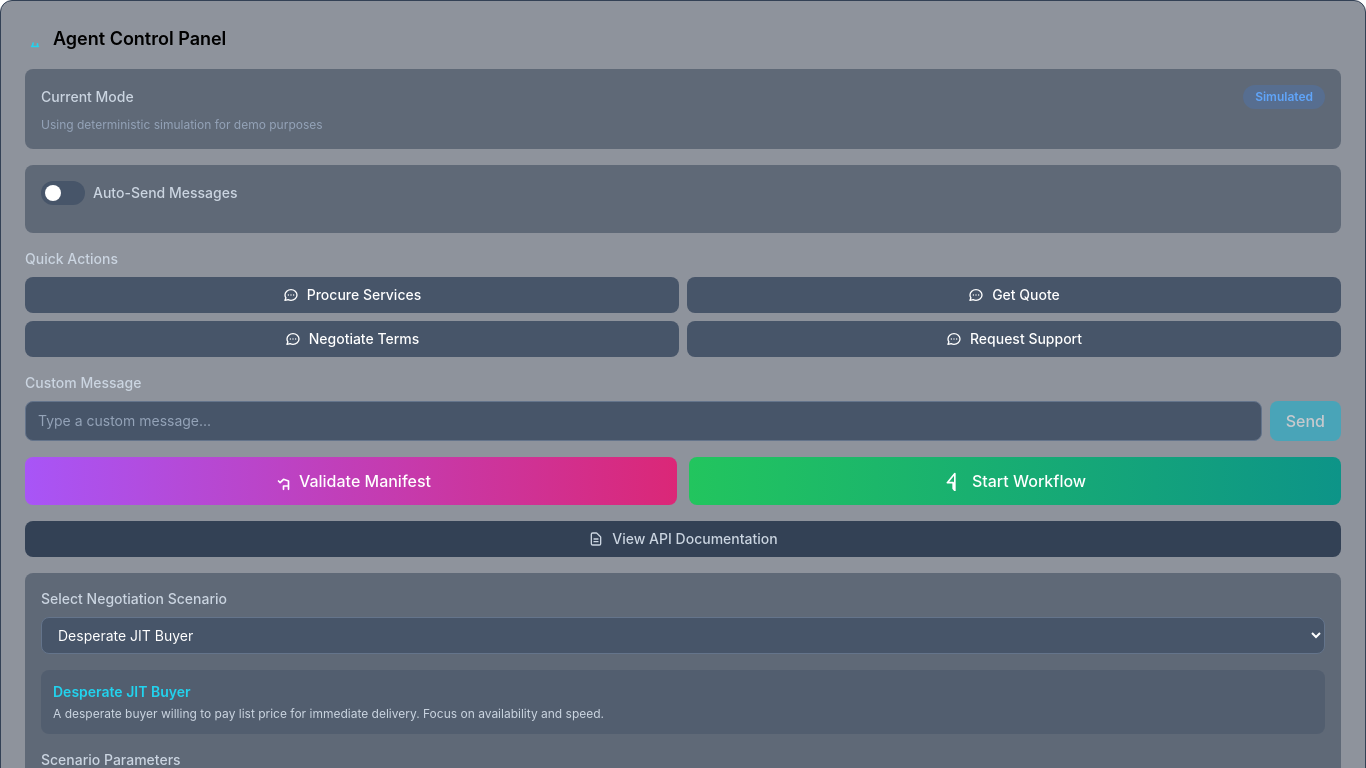
AgentControlPanel › Action Buttons › should enable send message button when session is active, connected, and message is provided
The image size is (1366, 768).
Type "hello" into the field with placeholder "Type a custom message..." at (643, 421), box [25,401,1262,441]
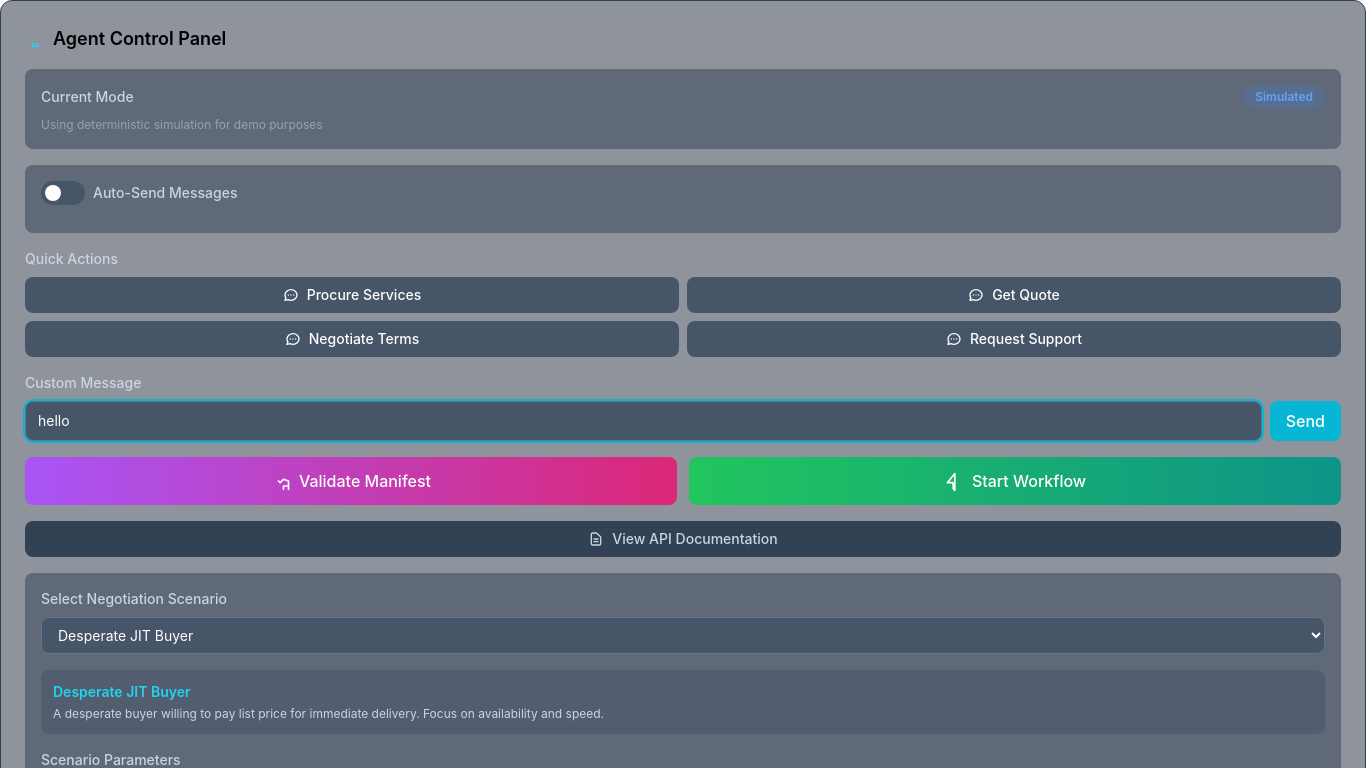
expect the button "Send" is enabled: met, box [1270,401,1341,441]
